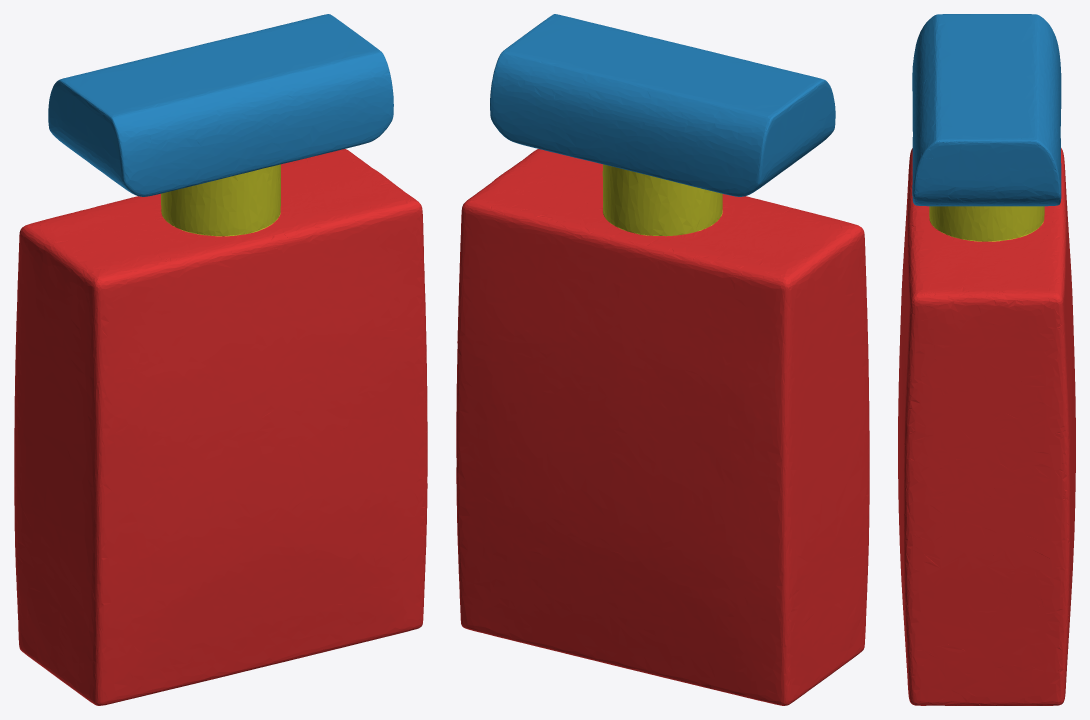
The model's file is temptation-mystic-parts-web.glb.
3 renders of one model, left to right at view 1: azimuth 30°, elevation 25°; view 2: azimuth 150°, elevation 25°; view 3: azimuth 270°, elevation 25°, orthographic. The views are drawn at different scales.
Visible parts, largest first — view 1: model_part0, model_part1, model_part2; view 2: model_part0, model_part1, model_part2; view 3: model_part0, model_part1, model_part2.
Part boxes in pixels (box(x1,y1,x2,y2)): model_part0: box(14, 149, 427, 705); model_part1: box(48, 14, 393, 196); model_part2: box(161, 164, 280, 236); model_part0: box(456, 149, 869, 705); model_part1: box(490, 14, 835, 196); model_part2: box(602, 164, 722, 236); model_part0: box(898, 148, 1075, 705); model_part1: box(912, 14, 1061, 206); model_part2: box(929, 206, 1044, 241).
Size of the model in its own units: 0.0729 by 0.12 by 0.0349.
